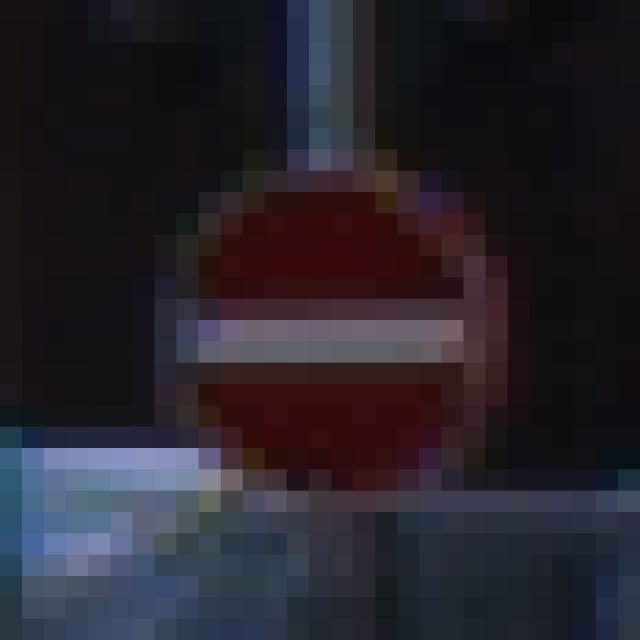No Entry: (134, 129, 531, 534)
